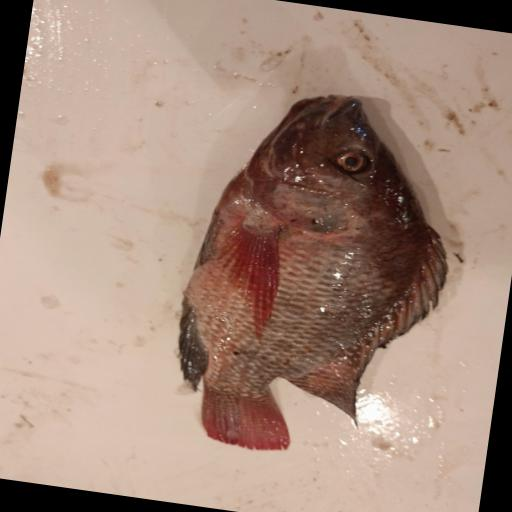Tilapia: (162, 77, 471, 474)
